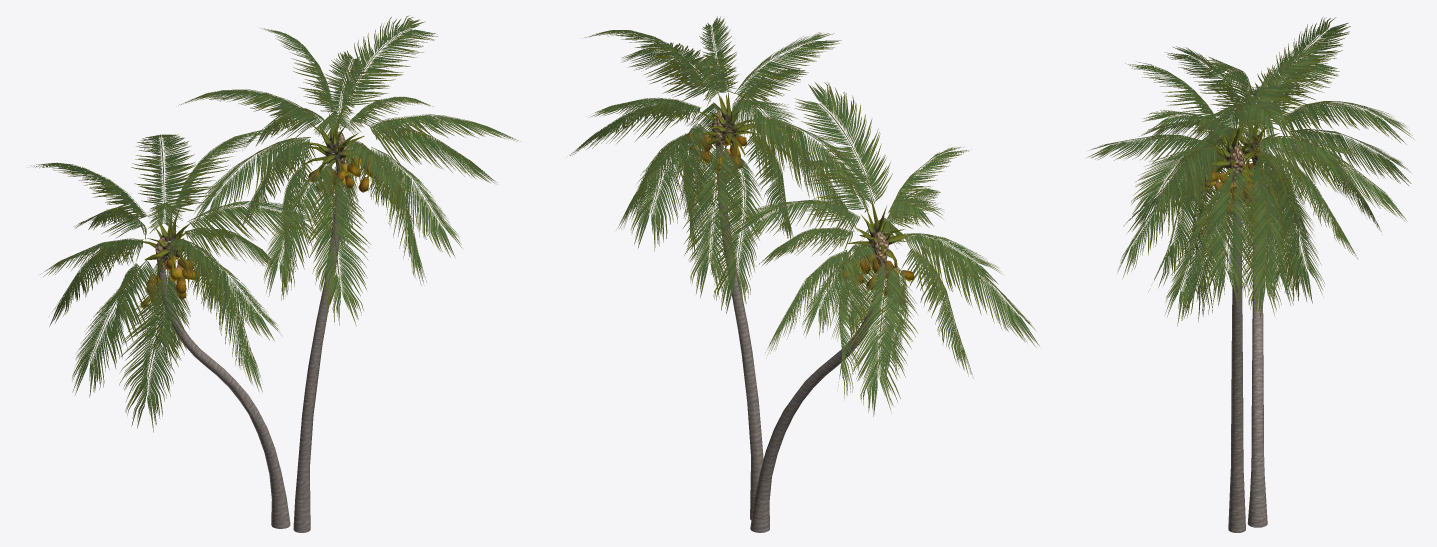
Rendered from palm.glb.
The picture shows the model from 3 angles, left to right: view 1: azimuth 30°, elevation 25°; view 2: azimuth 150°, elevation 25°; view 3: azimuth 270°, elevation 25°; orthographic projection. The views are drawn at different scales.
Visible parts, largest first — view 1: Tree_2, Tree_0, Tree_3, Tree_4; view 2: Tree_2, Tree_0, Tree_3, Tree_4, Tree_1; view 3: Tree_2, Tree_0, Tree_3, Tree_4, Tree_1.
Part boxes in pixels (box(x1,y1,x2,y2)): Tree_2: box(29, 15, 520, 432); Tree_0: box(158, 171, 343, 532); Tree_3: box(140, 105, 364, 291); Tree_4: box(140, 155, 375, 308); Tree_2: box(567, 16, 1039, 416); Tree_0: box(716, 151, 885, 532); Tree_3: box(699, 89, 910, 267); Tree_4: box(685, 128, 914, 304); Tree_1: box(712, 110, 888, 269); Tree_2: box(1085, 17, 1414, 326); Tree_0: box(1228, 186, 1267, 532); Tree_3: box(1208, 117, 1279, 191); Tree_4: box(1203, 162, 1283, 217); Tree_1: box(1229, 135, 1265, 184).
Bounding box in the file's own units: 6.3 × 6.28 × 4.02.
Materials: 5 (5 with a texture image).
